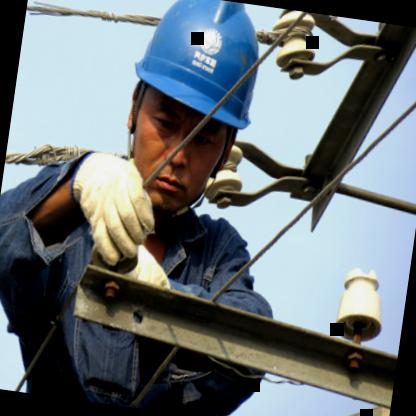helmet: (100, 0, 280, 231)
